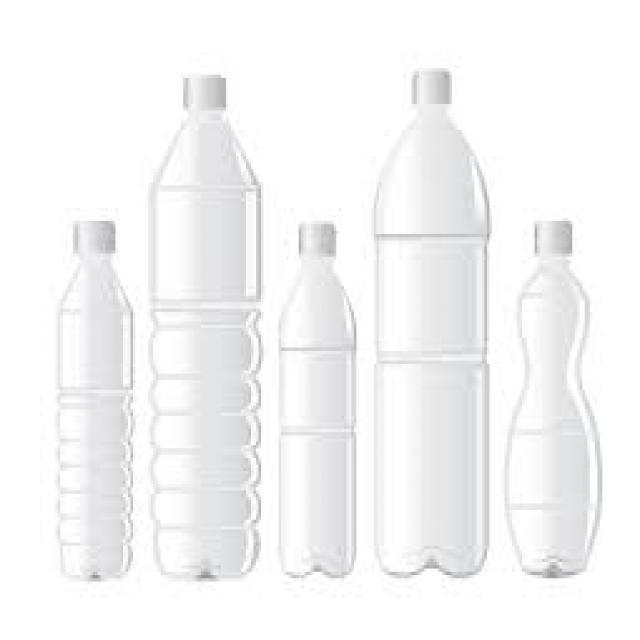Plastic: (372, 69, 491, 581), (148, 76, 260, 584), (508, 221, 598, 578), (276, 220, 359, 580), (58, 218, 132, 583)
